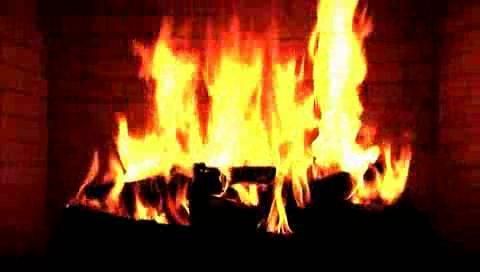fire: (65, 3, 473, 228)
